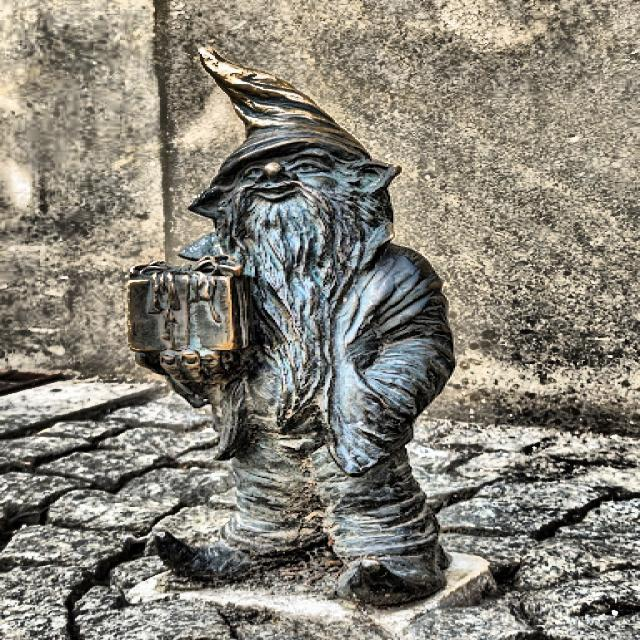Suvenirek: (129, 50, 455, 604)
